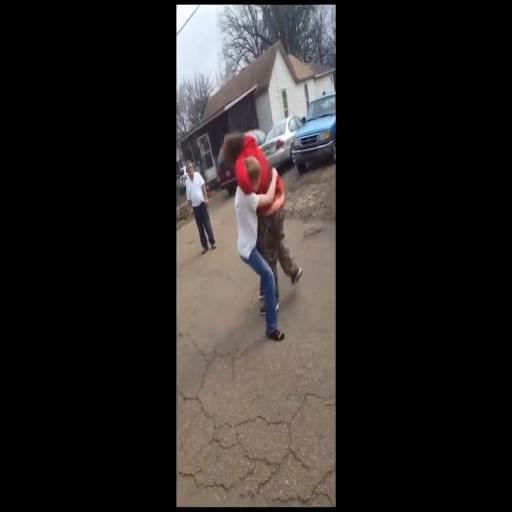violencia: (212, 116, 308, 347)
